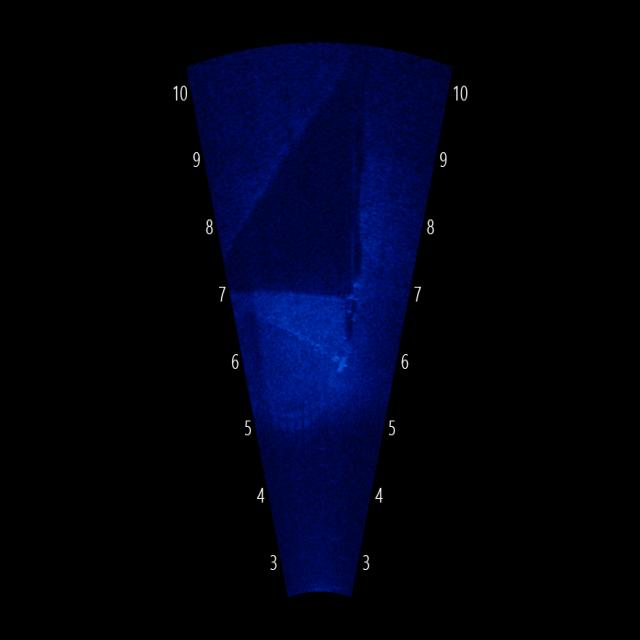triangle: (237, 260, 377, 381)
